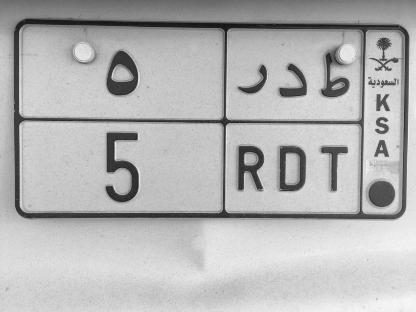license plate: (7, 8, 407, 221)
